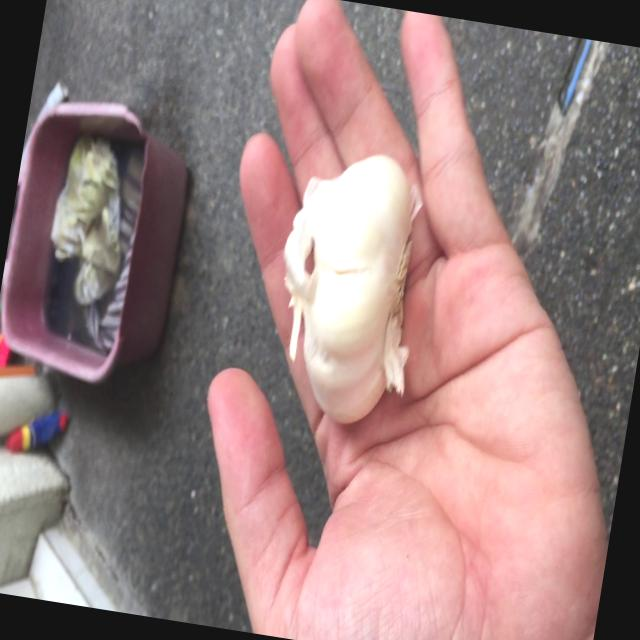bawang: (258, 135, 434, 434)
